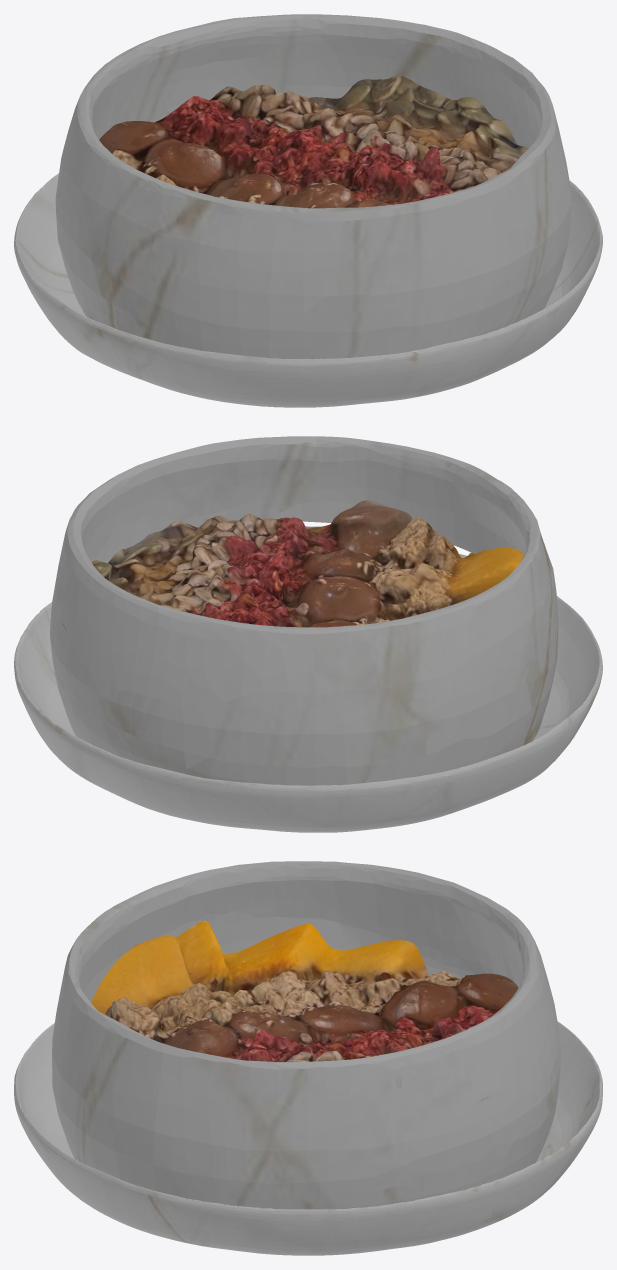
File: SET.MIVEH.glb
3 views of the same model, one above another, from view 1: azimuth 30°, elevation 25°; view 2: azimuth 150°, elevation 25°; view 3: azimuth 270°, elevation 25° (orthographic).
Parts seen in each view (by area): view 1: world (×2), object 1; view 2: world (×2), object 1; view 3: world (×2), object 1.
Part boxes in pixels (box(x1,y1,x2,y2)): world (×2): box(14, 14, 602, 407); object 1: box(99, 75, 528, 208); world (×2): box(14, 436, 602, 832); object 1: box(62, 500, 524, 630); world (×2): box(14, 861, 602, 1255); object 1: box(91, 921, 518, 1101).
Size of the model in its own units: 0.2 by 0.0802 by 0.2.
Materials: 3 (3 with a texture image).
